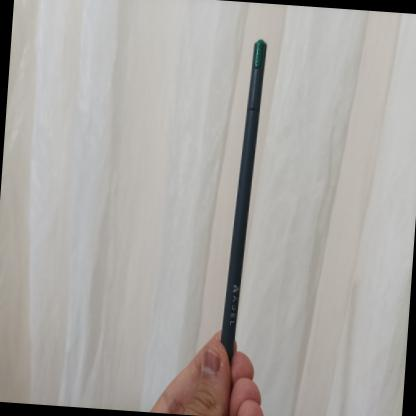pencil: (222, 38, 270, 362)
